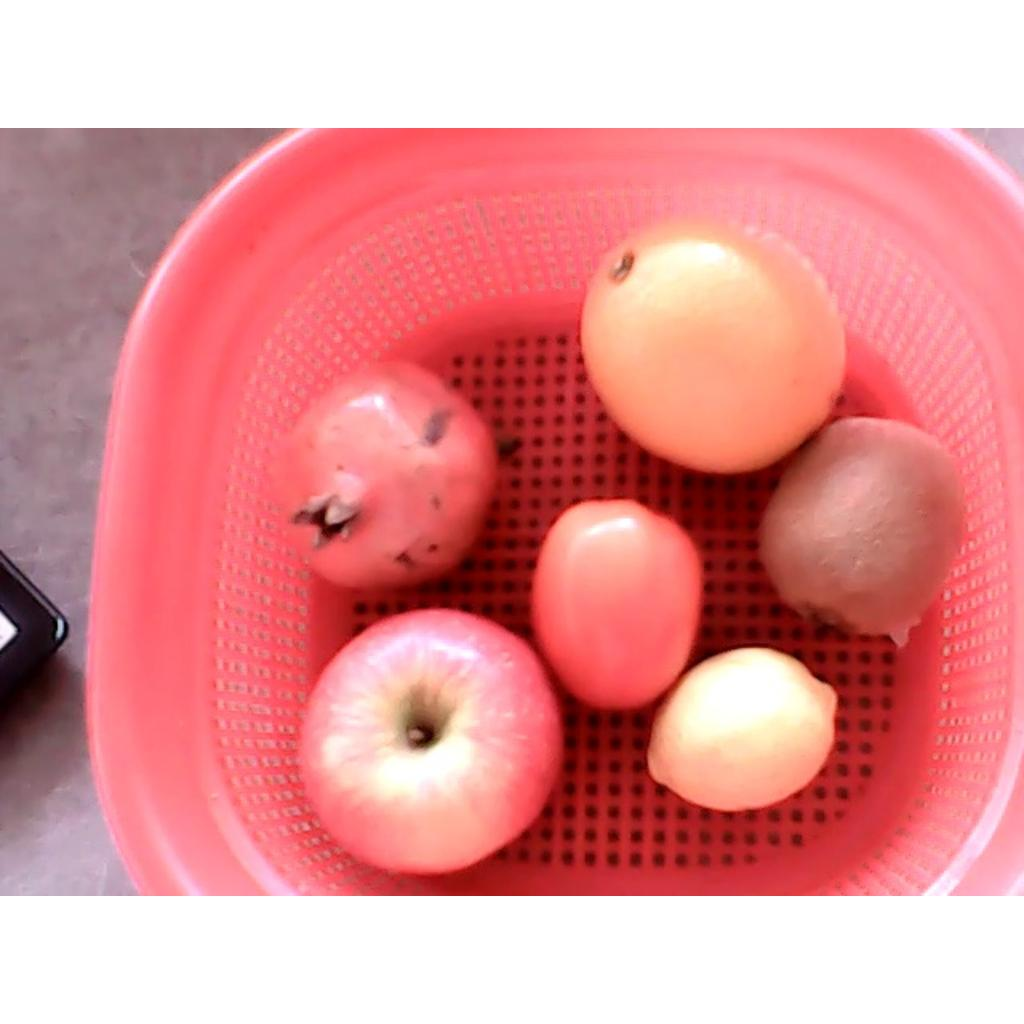apple: (300, 606, 564, 873)
kiwi: (757, 416, 964, 633)
lemon: (647, 647, 836, 811)
orange: (579, 216, 846, 472)
pomegranate: (267, 357, 499, 590)
tomato: (530, 495, 702, 712)
